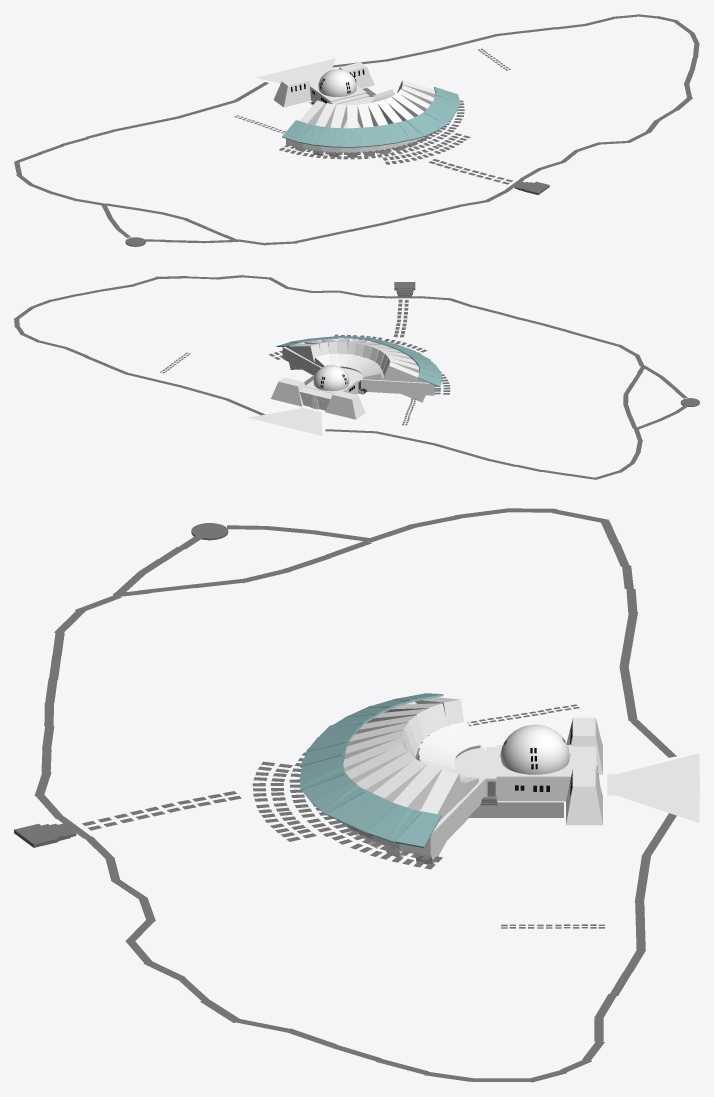
The model's file is asmundarsafn_nyasta_utgafa_8.4_12.37.obj.
3 renders of one model, top to bottom at view 1: azimuth 30°, elevation 25°; view 2: azimuth 150°, elevation 25°; view 3: azimuth 270°, elevation 25°, orthographic. The views are drawn at different scales.
Parts seen in each view (by area): view 1: der_yfir_thaki, thak, gangstett_i_kringum_hring, syningarsalur, Sphere, h_hlid, Plane.001, Plane.005, v_hlid, innanhus; view 2: thak, syningarsalur, der_yfir_thaki, Plane.005, h_hlid, Sphere, v_hlid, Plane.001, adaldyr, gangstett_i_kringum_hring, Plane; view 3: thak, der_yfir_thaki, gangstett_i_kringum_hring, Plane.005, Plane.001, syningarsalur, Sphere, innanhus, v_hlid, Plane, h_hlid, gangstett_ad_vatnsbera.
Part boxes in pixels (x1,y1,x2,y2): der_yfir_thaki: (282, 87, 460, 147); thak: (295, 80, 435, 157); gangstett_i_kringum_hring: (279, 100, 470, 164); syningarsalur: (286, 97, 428, 153); Sphere: (318, 69, 356, 96); h_hlid: (273, 76, 311, 107); Plane.001: (125, 88, 549, 246); Plane.005: (256, 66, 318, 83); v_hlid: (339, 62, 374, 88); innanhus: (309, 83, 366, 103); thak: (286, 339, 428, 402); syningarsalur: (282, 339, 434, 395); der_yfir_thaki: (276, 336, 442, 387); Plane.005: (277, 407, 323, 435); h_hlid: (325, 390, 365, 419); Sphere: (313, 365, 349, 391); v_hlid: (271, 377, 305, 406); Plane.001: (304, 282, 699, 406); adaldyr: (299, 387, 332, 410); gangstett_i_kringum_hring: (268, 334, 450, 394); Plane: (248, 409, 297, 424); thak: (343, 697, 480, 864); der_yfir_thaki: (299, 693, 443, 847); gangstett_i_kringum_hring: (252, 748, 442, 869); Plane.005: (607, 753, 699, 795); Plane.001: (14, 523, 563, 847); syningarsalur: (342, 701, 485, 857); Sphere: (500, 724, 569, 774); innanhus: (496, 745, 572, 801); v_hlid: (566, 768, 602, 825); Plane: (618, 795, 699, 822); h_hlid: (566, 717, 602, 774); gangstett_ad_vatnsbera: (82, 791, 241, 830).
Size of the model in its own units: 148 by 8.94 by 74.48.
